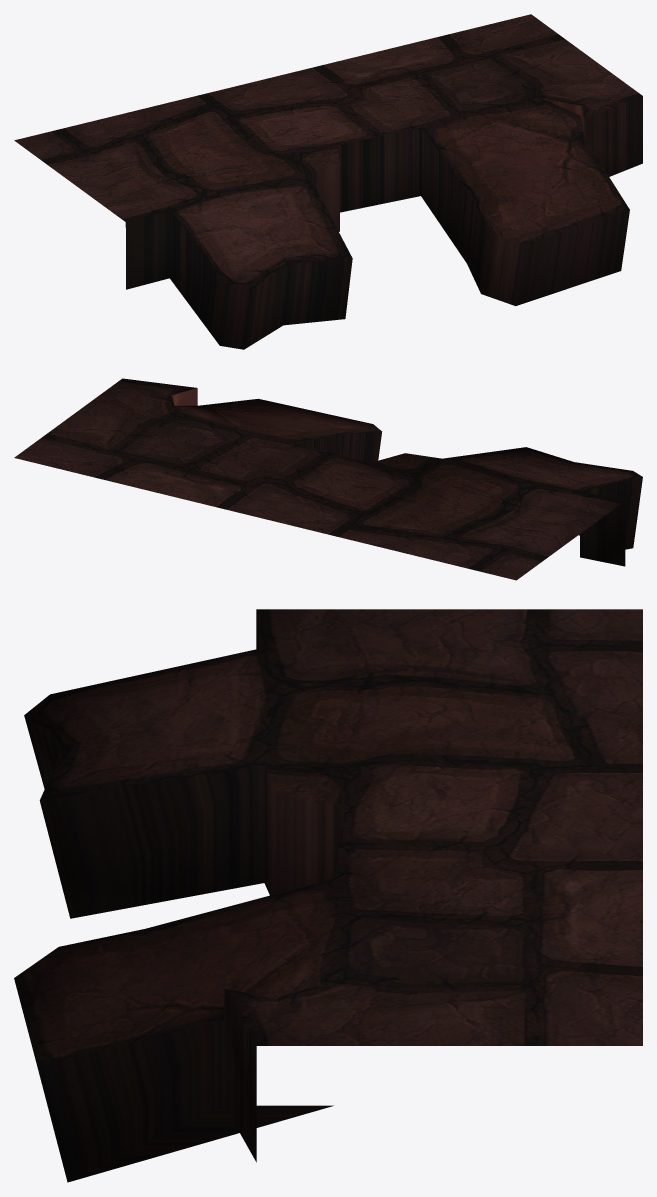
The model's file is lava_floor_brokenstraight_01.fbx.
3 views of the same model, one above another, from view 1: azimuth 30°, elevation 25°; view 2: azimuth 150°, elevation 25°; view 3: azimuth 270°, elevation 25° (orthographic). The views are drawn at different scales.
Visible parts, largest first — view 1: lava_floor_brokenstraight_01-0; view 2: lava_floor_brokenstraight_01-0; view 3: lava_floor_brokenstraight_01-0.
Boxes of the visible parts, box(x1,y1,x2,y2) form: lava_floor_brokenstraight_01-0: box(14, 14, 642, 349); lava_floor_brokenstraight_01-0: box(14, 378, 642, 580); lava_floor_brokenstraight_01-0: box(14, 609, 642, 1182).
Size of the model in its own units: 4 by 0.8872 by 2.44.
